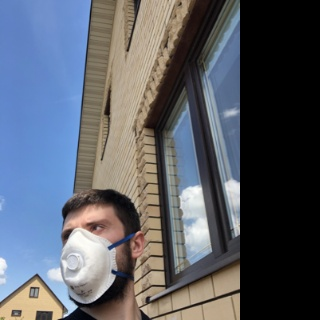with_mask: (60, 216, 121, 308)
